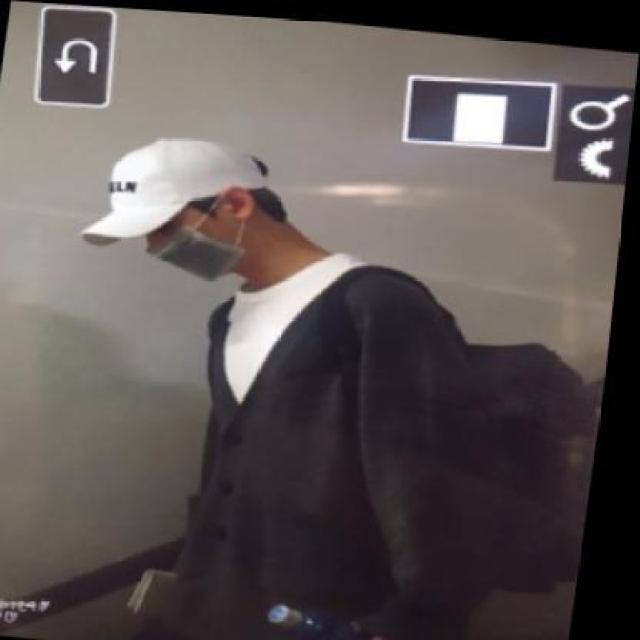hat: (80, 122, 289, 264)
